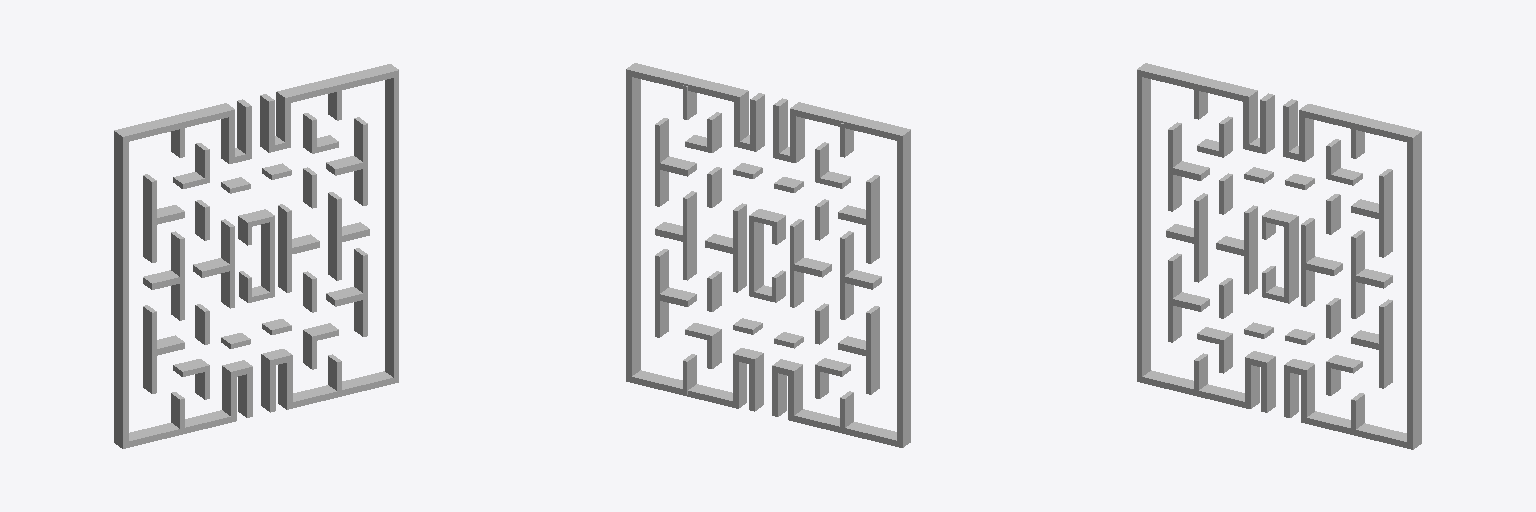
File: map.obj
The picture shows the model from 3 angles: view 1: azimuth 30°, elevation 25°; view 2: azimuth 150°, elevation 25°; view 3: azimuth 330°, elevation 25°; orthographic projection.
Parts seen in each view (by area): view 1: Plane.028_Plane.031; view 2: Plane.028_Plane.031; view 3: Plane.028_Plane.031.
Boxes of the visible parts, x1,y1,x2,y2 form: Plane.028_Plane.031: [114, 64, 398, 448]; Plane.028_Plane.031: [626, 63, 910, 447]; Plane.028_Plane.031: [1137, 63, 1421, 449].
Size of the model in its own units: 37.12 by 40.11 by 2.41.